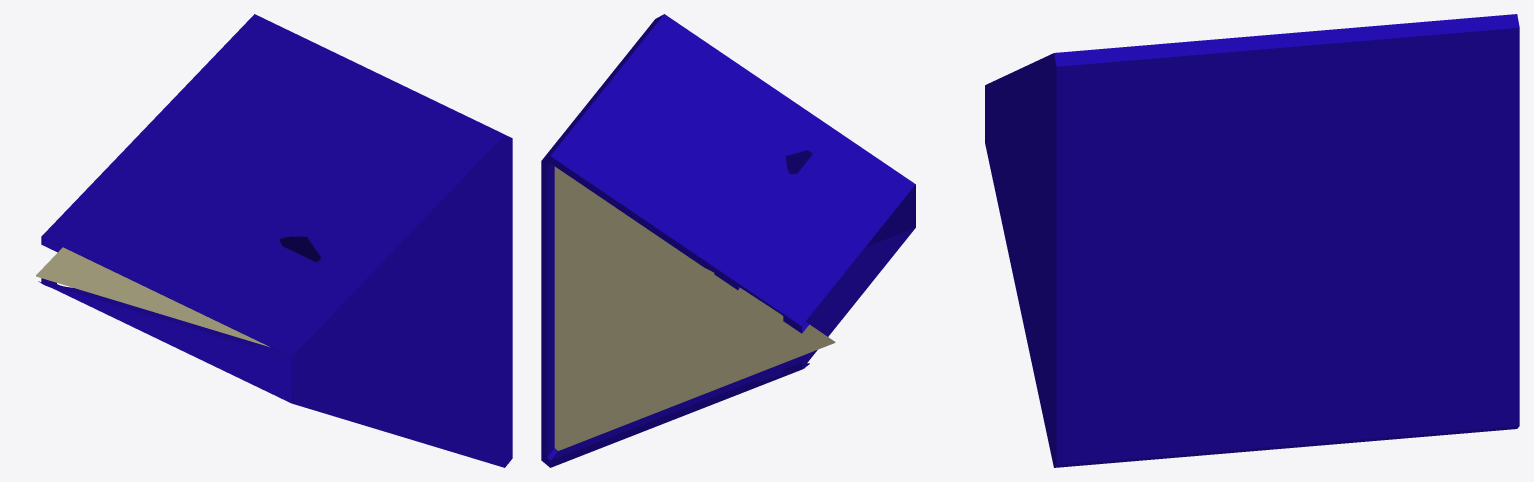
Rendered from continue.fbx.
3 views of the same model, side by side, from view 1: azimuth 30°, elevation 25°; view 2: azimuth 150°, elevation 25°; view 3: azimuth 270°, elevation 25° (orthographic). The views are drawn at different scales.
Visible parts, largest first — view 1: Cube.004; view 2: Cube.004; view 3: Cube.004.
Part boxes in pixels (left/top/right/bottom): Cube.004: left=36, top=14, right=512, bottom=467; Cube.004: left=541, top=14, right=915, bottom=467; Cube.004: left=985, top=14, right=1519, bottom=467.
Size of the model in its own units: 163 by 149 by 138.
